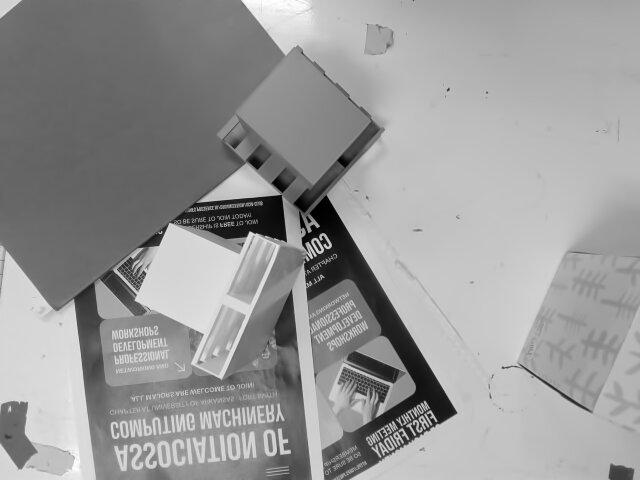grey pallet: (208, 32, 394, 214)
white pallet: (123, 206, 310, 381)
